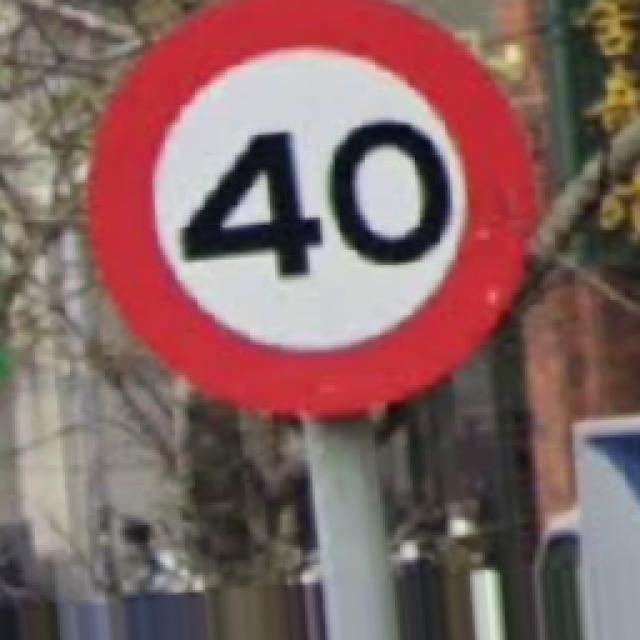Speed Limit -40-: (92, 0, 535, 415)
